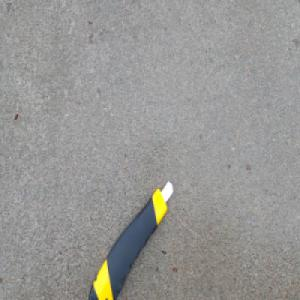Cutter: (86, 178, 174, 299)
